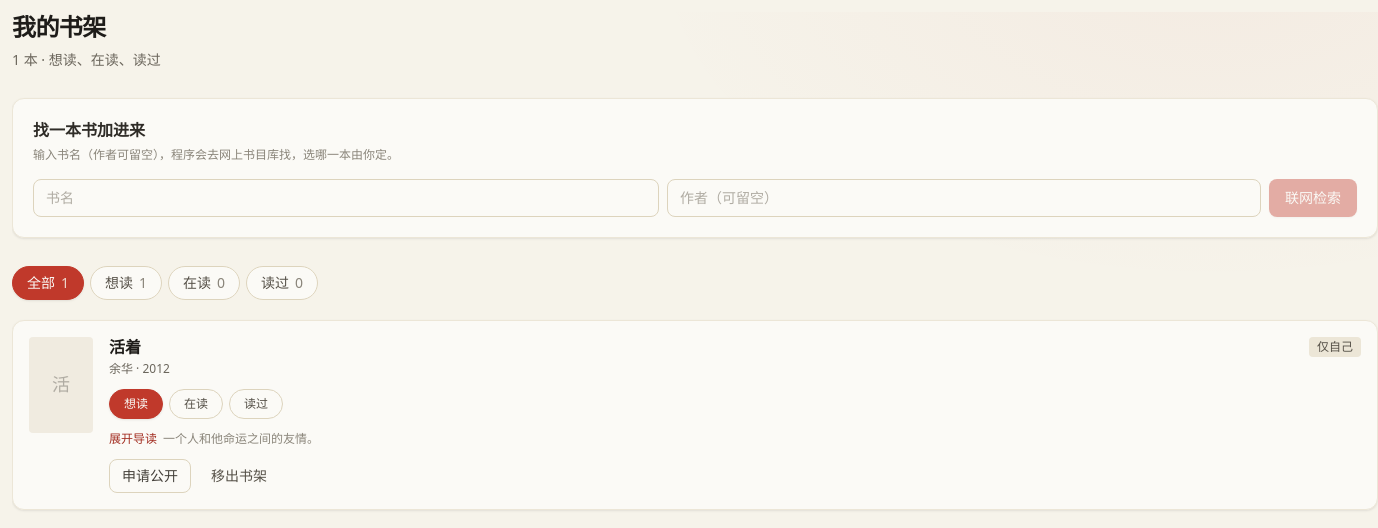
书架上的操作 › 申请公开之后显示"待审核"
The width and height of the screenshot is (1378, 528).
Check: the heading "活着" is shown, box x1=109 y1=337 x2=141 y2=359
Click the button "申请公开": (150, 476) x1=109 y1=459 x2=191 y2=493
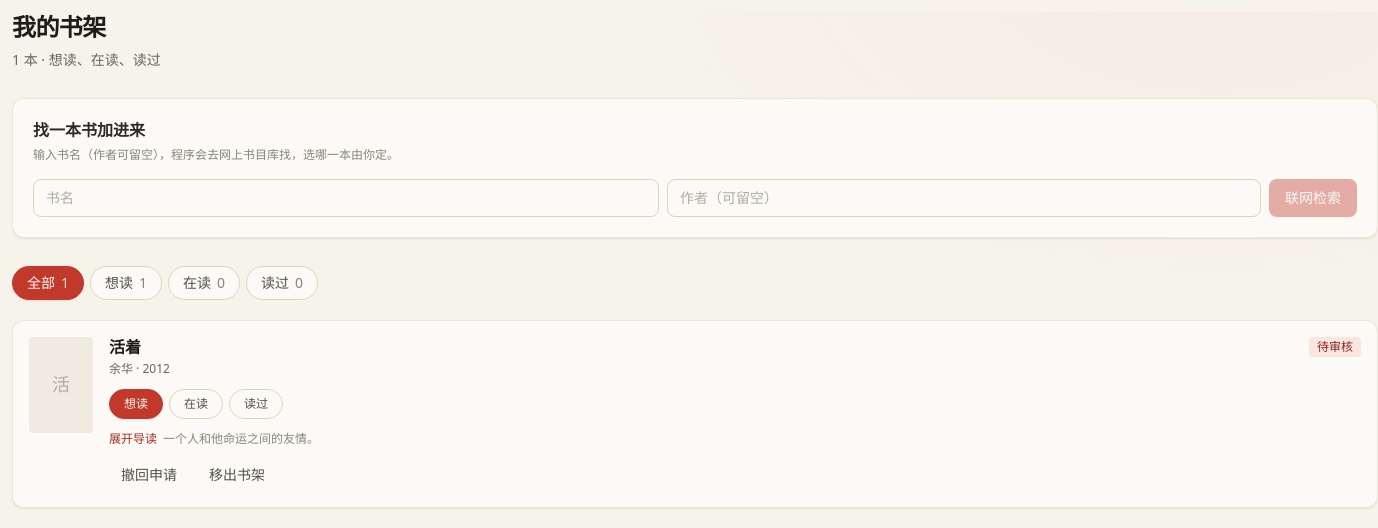
Check: the text "待审核" is shown, box x1=1309 y1=337 x2=1361 y2=357
Check: the button "申请公开" is gone
